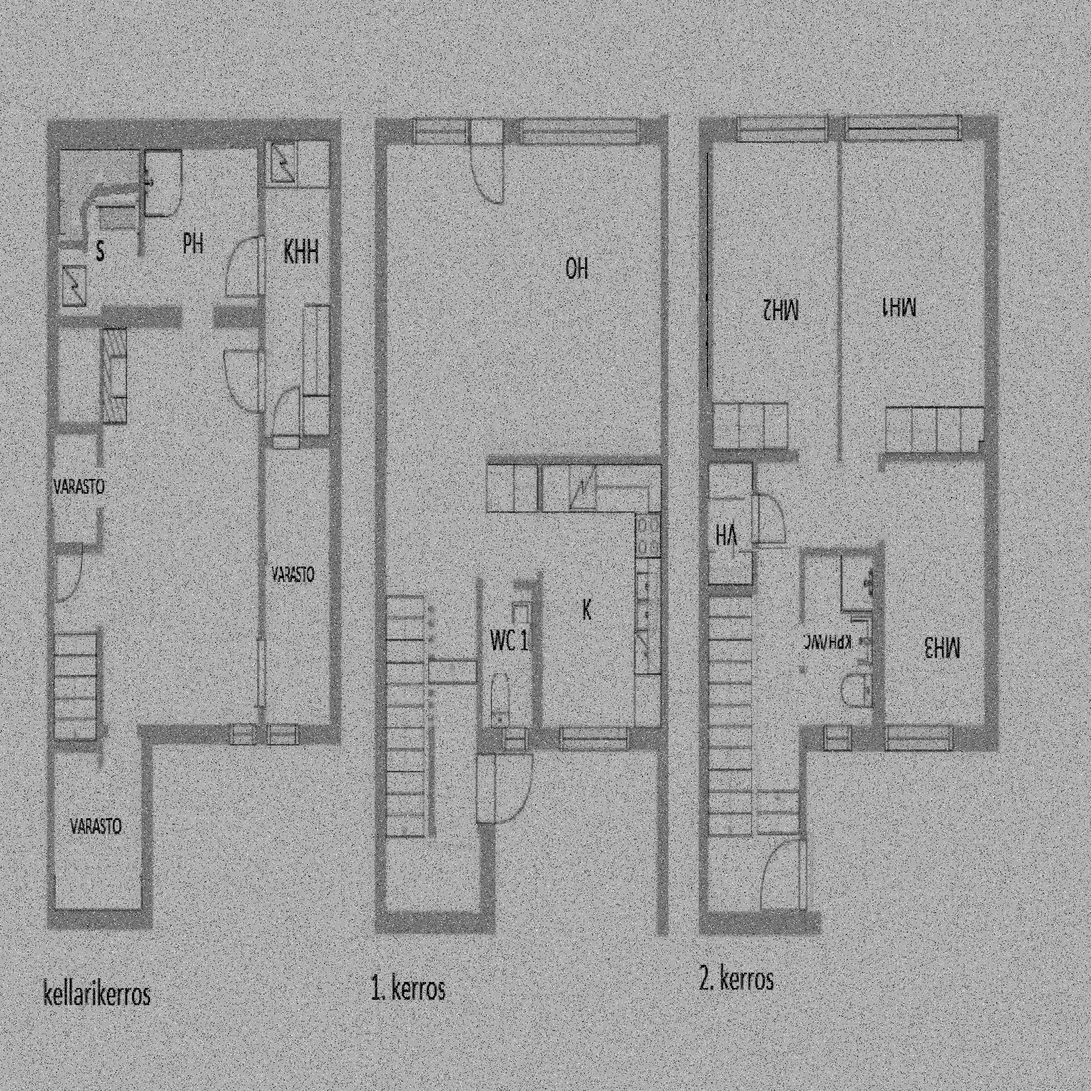wall: (984, 116, 999, 751), (375, 118, 386, 935), (375, 118, 668, 144), (329, 119, 341, 744), (139, 119, 341, 149), (660, 118, 668, 750), (699, 116, 713, 461), (698, 461, 708, 935), (477, 726, 668, 750), (837, 116, 999, 143), (699, 115, 837, 142), (257, 306, 265, 745), (877, 725, 999, 751), (375, 911, 495, 935), (47, 119, 139, 149), (872, 547, 885, 751), (698, 911, 806, 935), (142, 726, 257, 745), (47, 909, 152, 929), (47, 119, 57, 327), (837, 116, 843, 461), (142, 726, 152, 930), (657, 750, 668, 935), (799, 725, 877, 751), (477, 726, 495, 836), (139, 306, 222, 327), (532, 579, 542, 750), (428, 596, 435, 836), (214, 118, 222, 326), (257, 726, 341, 745), (699, 450, 843, 461), (480, 836, 495, 935), (799, 725, 806, 935), (486, 455, 668, 463), (251, 306, 341, 322), (47, 742, 54, 930), (47, 554, 54, 741), (138, 118, 145, 305), (799, 547, 805, 754), (47, 327, 58, 435), (214, 306, 265, 327), (885, 452, 999, 461), (95, 435, 103, 554), (96, 626, 103, 753), (752, 449, 758, 594), (799, 546, 885, 556), (476, 578, 481, 749), (877, 452, 885, 557), (47, 435, 54, 554), (100, 306, 139, 327), (47, 422, 103, 435), (96, 726, 152, 738), (428, 825, 495, 835), (477, 579, 537, 590), (537, 455, 542, 579), (47, 742, 103, 753), (47, 316, 103, 327), (698, 584, 758, 594), (54, 543, 103, 554), (837, 452, 885, 461), (100, 316, 103, 436), (806, 911, 821, 935)
